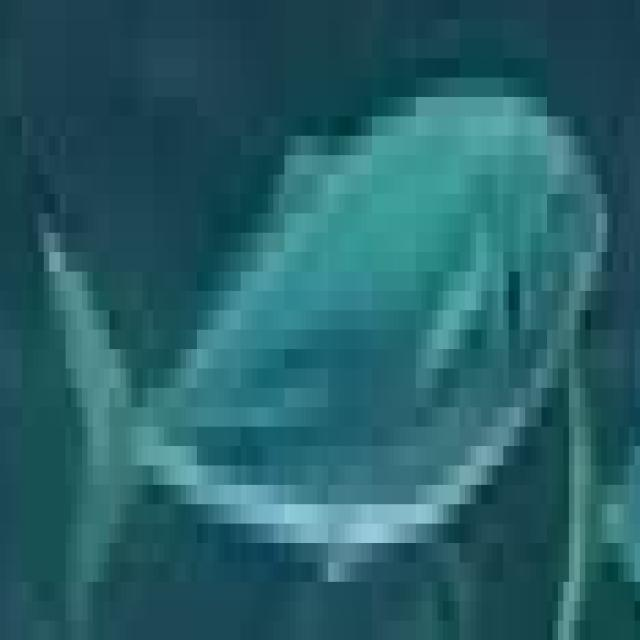fish: (0, 0, 635, 621)
